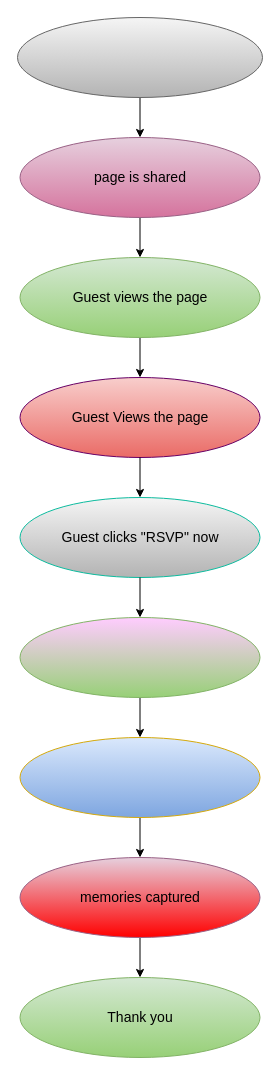
Image size: 280x1075. Some labels were removed from this diagram. Each missing label, with the centre of its shape:
Guest arrives at event: the point at 139,777
Invitation web page created: the point at 139,57
Organizer receives RSVP: the point at 139,657
